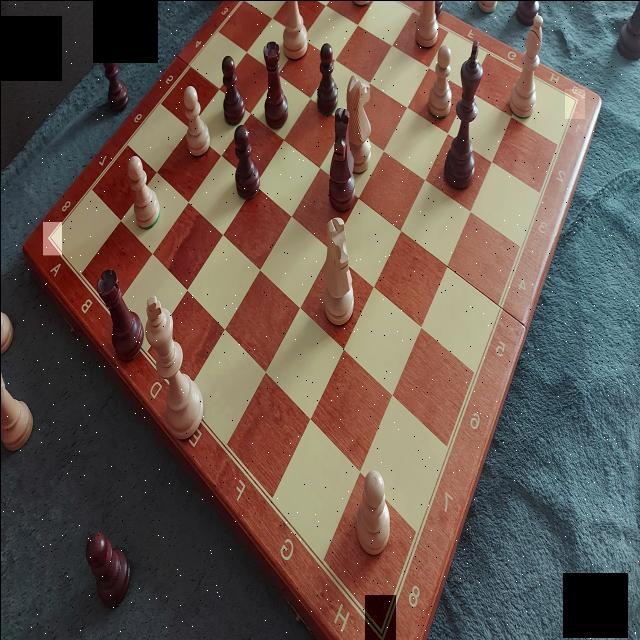chess-table-corners: (364, 594, 395, 640), (42, 222, 61, 256), (564, 88, 584, 118)
